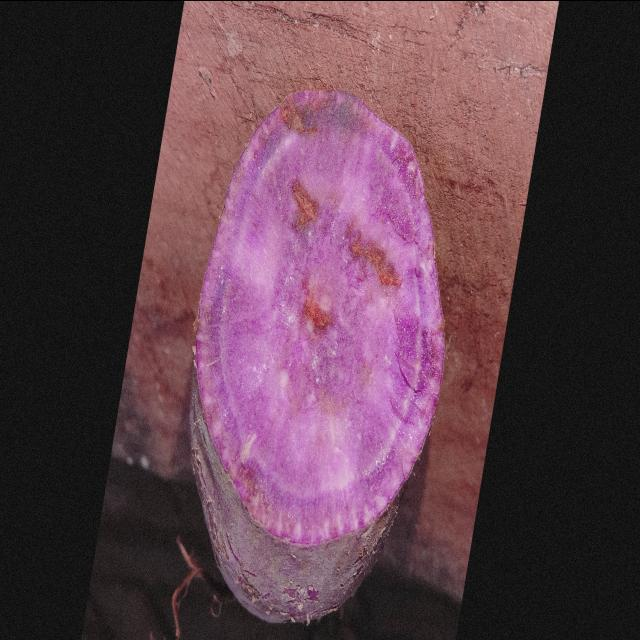Sick Sweet Potato_Tuber Rot: (196, 91, 444, 544)
